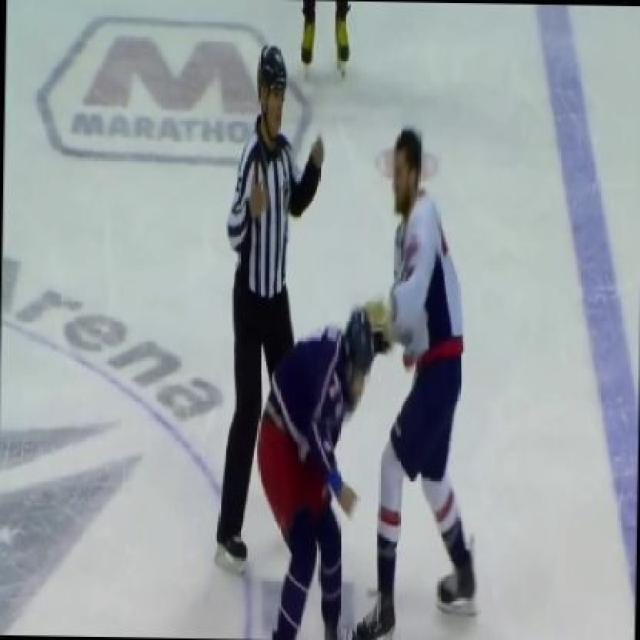fight: (222, 114, 474, 638)
non-fight: (189, 37, 330, 569)
